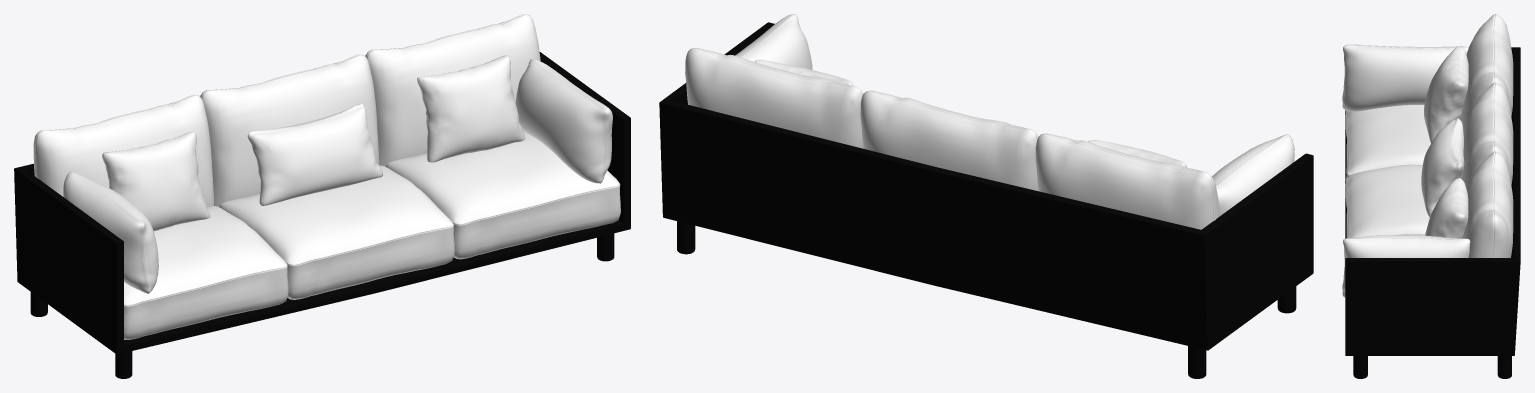
The model's file is sofa_web.glb.
3 renders of one model, left to right at view 1: azimuth 30°, elevation 25°; view 2: azimuth 150°, elevation 25°; view 3: azimuth 270°, elevation 25°, orthographic. The views are drawn at different scales.
Parts seen in each view (by area): view 1: Leather Sofa; view 2: Leather Sofa; view 3: Leather Sofa.
Part boxes in pixels (x1=…): Leather Sofa: x1=14, y1=14, x2=630, y2=378; Leather Sofa: x1=659, y1=14, x2=1313, y2=378; Leather Sofa: x1=1342, y1=14, x2=1520, y2=378.
Bounding box in the file's own units: 2.87 × 1.01 × 1.01.
1 material, 1 textured.
